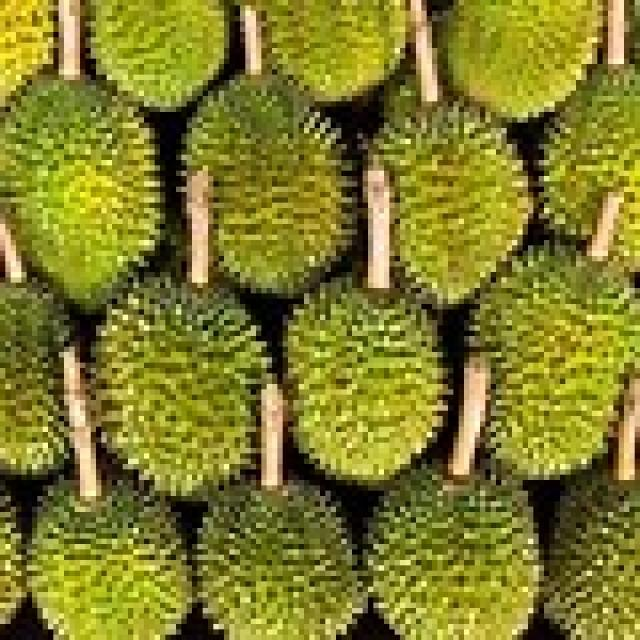immature: (476, 244, 640, 478), (0, 79, 162, 313), (96, 276, 268, 494), (185, 76, 341, 297), (375, 101, 532, 304), (288, 279, 442, 482), (369, 471, 540, 640), (28, 484, 190, 639), (198, 486, 362, 639)
